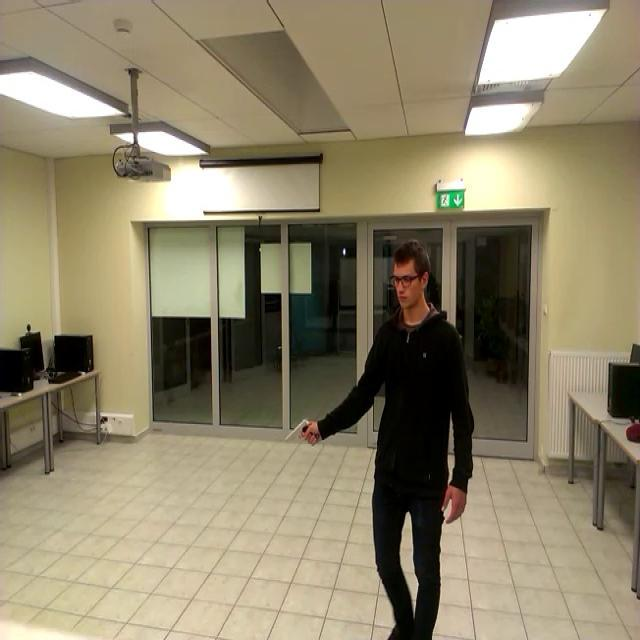Gun: (278, 408, 326, 448)
